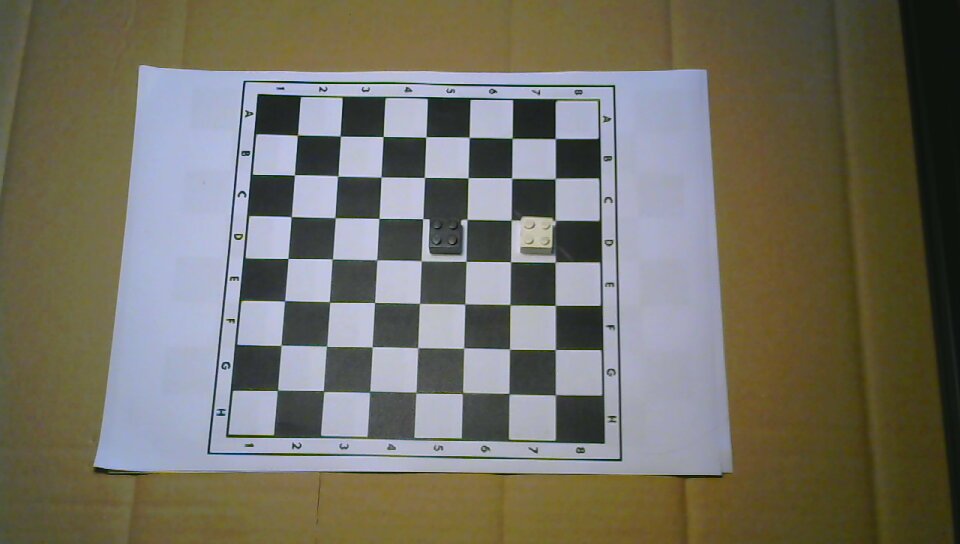bp: (427, 217, 464, 256)
wp: (518, 215, 554, 256)
